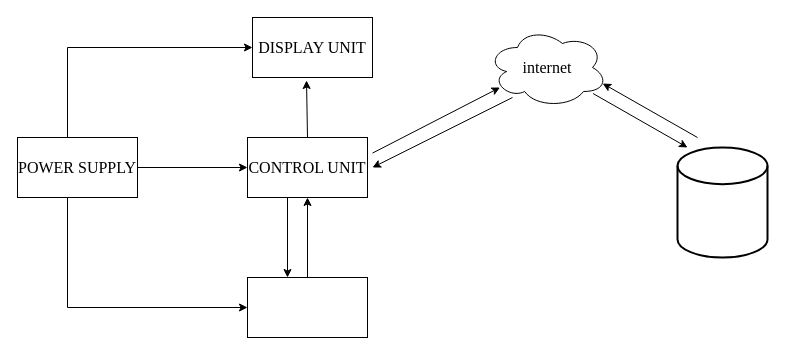
Some shapes in this 786 by 355 pixel diagram are drawn without their labels. Each missing label, with the box of its shape:
Database: (676, 146, 768, 258)
SIGNING UNIT: (246, 276, 368, 338)
